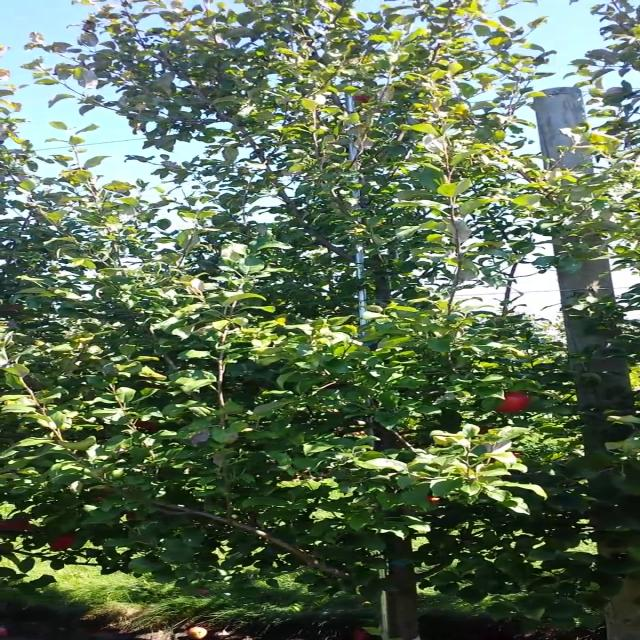apple: (496, 390, 529, 412), (48, 530, 80, 550), (1, 518, 34, 532), (133, 419, 160, 431), (351, 94, 371, 102), (426, 496, 440, 504)
